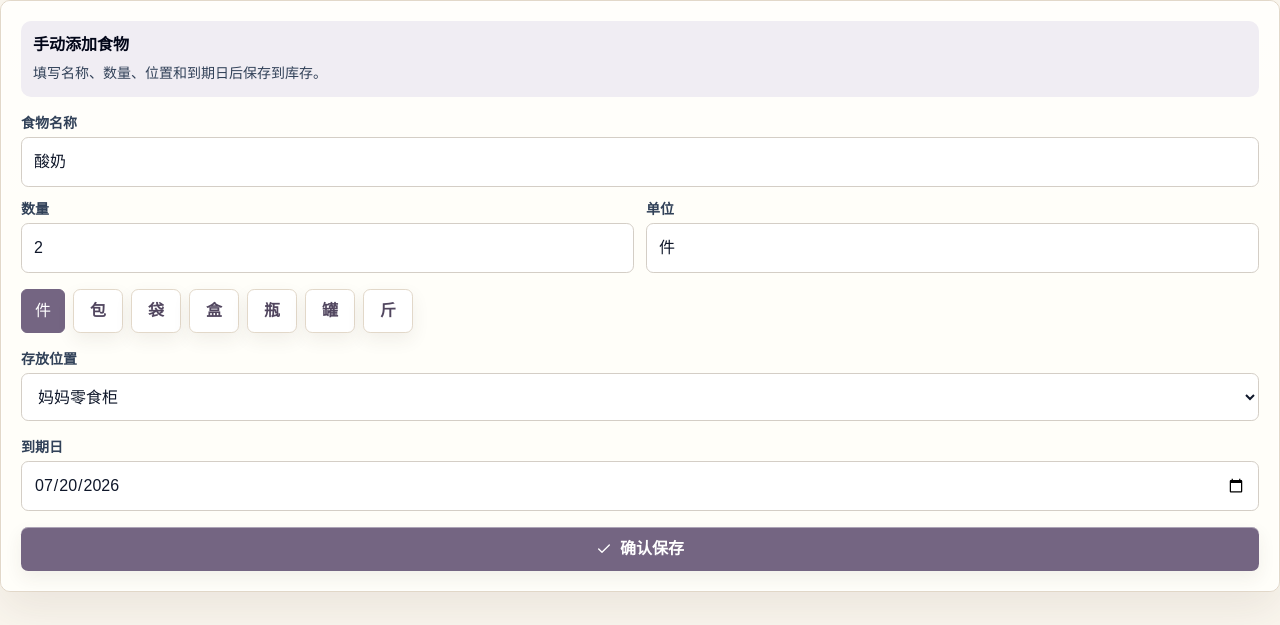
Scenario: AddFoodConfirmForm › lets the user choose a common unit with one tap
Click the button "盒" at (214, 311), box [189,289,239,333]
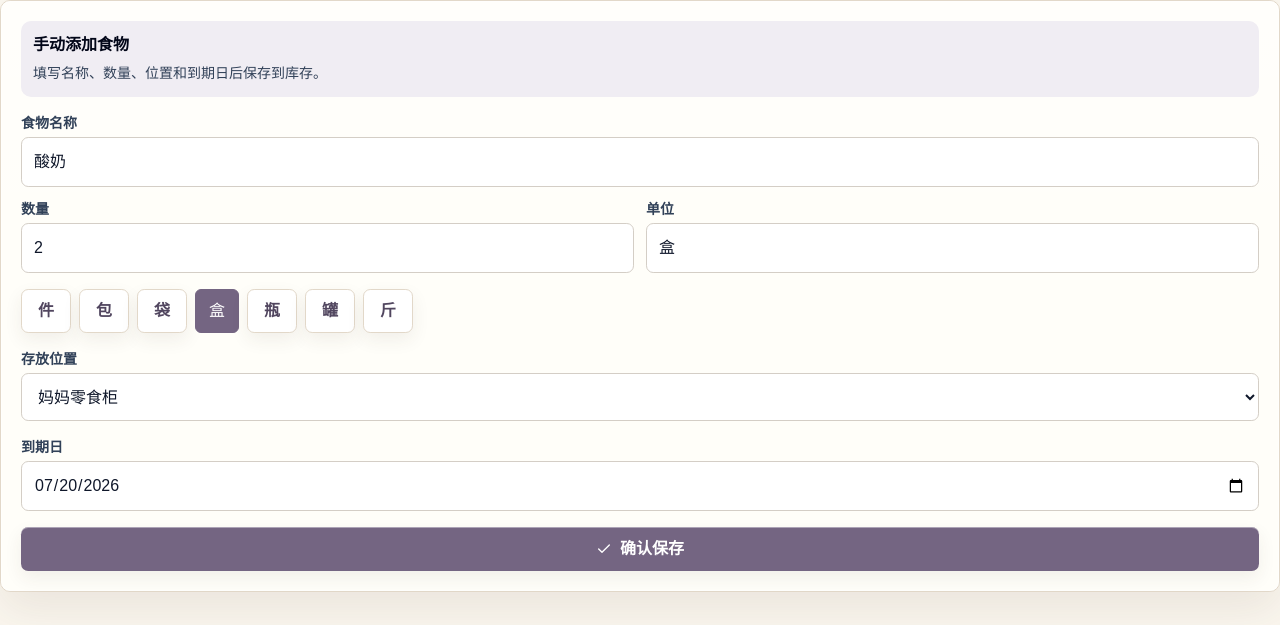
Expected: the field labelled "单位" holds "盒", [646,223,1259,273]
